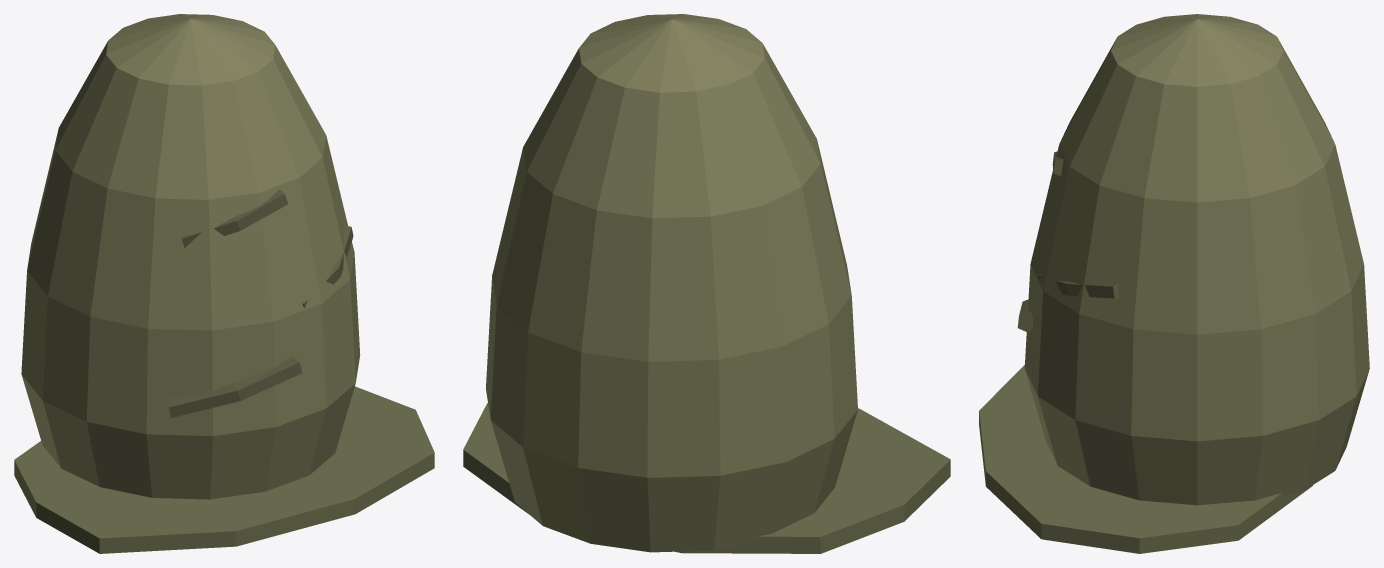
File: vge_exoworm_cocoon_a.obj
The picture shows the model from 3 angles, left to right: view 1: azimuth 30°, elevation 25°; view 2: azimuth 150°, elevation 25°; view 3: azimuth 270°, elevation 25°; orthographic projection. The views are drawn at different scales.
Parts seen in each view (by area): view 1: vge_exoworm_cocoon_a_1, vge_exoworm_cocoon_a_0, vge_exoworm_cocoon_a_2, vge_exoworm_cocoon_a_4, vge_exoworm_cocoon_a_3; view 2: vge_exoworm_cocoon_a_1, vge_exoworm_cocoon_a_0; view 3: vge_exoworm_cocoon_a_1, vge_exoworm_cocoon_a_0, vge_exoworm_cocoon_a_3.
Boxes of the visible parts, box(x1,y1,x2,y2) form: vge_exoworm_cocoon_a_1: box(21, 14, 360, 499); vge_exoworm_cocoon_a_0: box(14, 386, 434, 553); vge_exoworm_cocoon_a_2: box(167, 356, 302, 417); vge_exoworm_cocoon_a_4: box(181, 189, 288, 247); vge_exoworm_cocoon_a_3: box(302, 225, 353, 308); vge_exoworm_cocoon_a_1: box(486, 14, 857, 552); vge_exoworm_cocoon_a_0: box(463, 403, 950, 553); vge_exoworm_cocoon_a_1: box(1024, 14, 1369, 505); vge_exoworm_cocoon_a_0: box(979, 365, 1312, 553); vge_exoworm_cocoon_a_3: box(1038, 274, 1118, 299).
Bounding box in the file's own units: 0.7696 × 0.84 × 0.6792.
